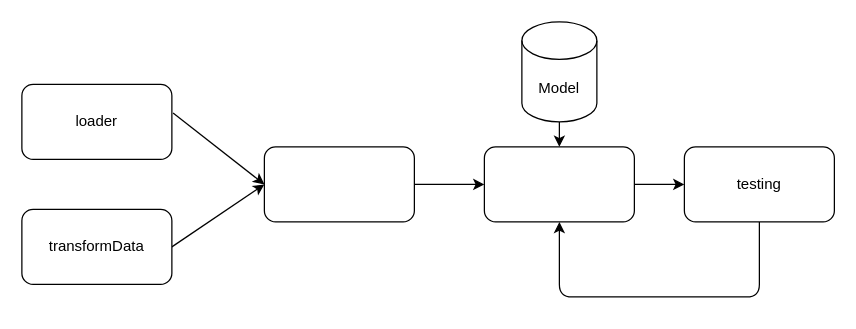
This 856x329 diagram has some shape labels left out. Each missing label, with the centre of its shape:
"dsLoader" belongs at pixel 338 184.
"training" belongs at pixel 558 184.
